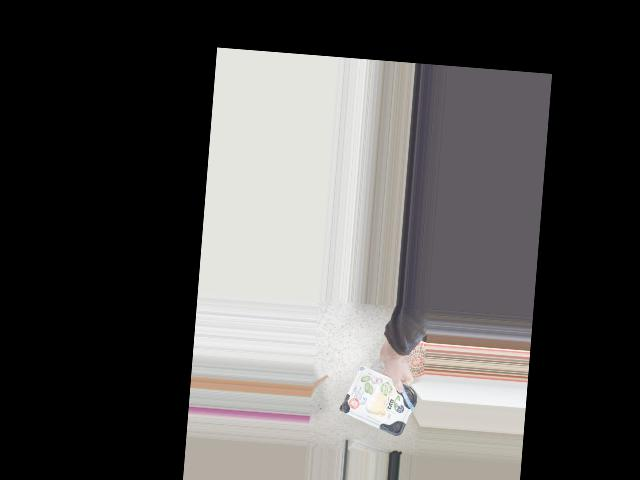cheese: (346, 371, 410, 423)
